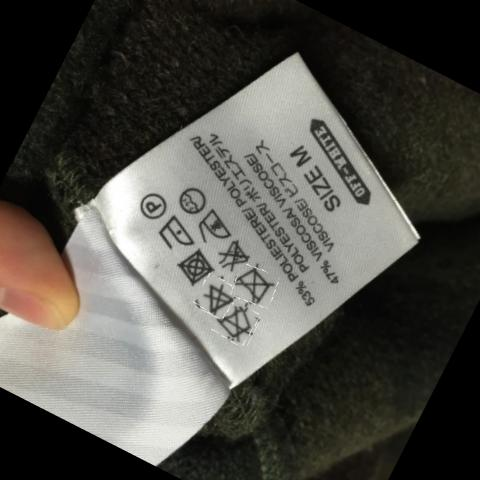DN_bleach: (204, 278, 236, 317)
DN_tumble_dry: (180, 247, 214, 287)
DN_wash: (235, 265, 275, 305), (219, 305, 257, 345)
dry_clean: (177, 182, 209, 216)
dry_clean_any_solvent_except_trichloroethylene: (139, 191, 170, 220)
iron: (197, 209, 235, 244)
iron_low: (159, 216, 195, 254)
